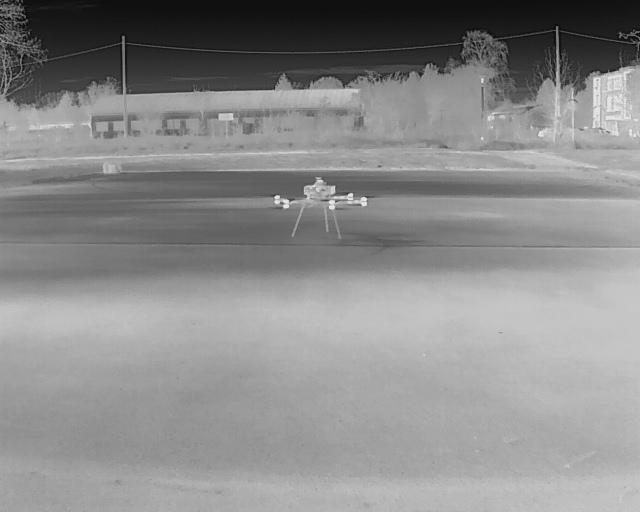drone: (253, 170, 385, 254)
